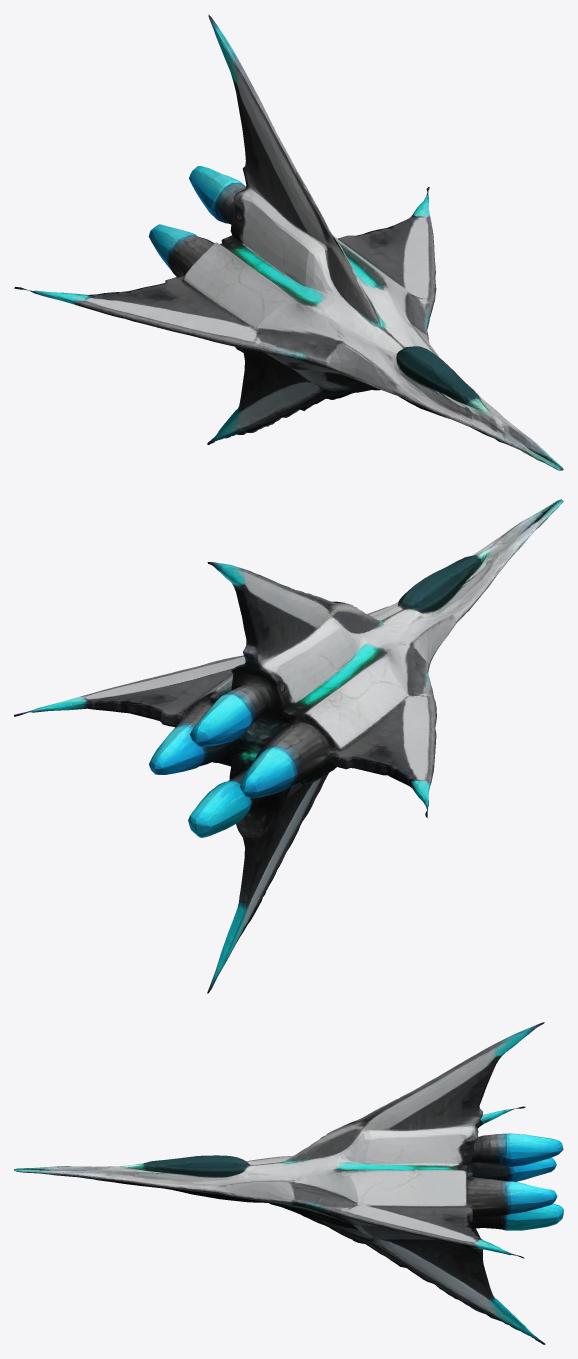
The model's file is helios-stealth.glb.
The picture shows the model from 3 angles, top to bottom: view 1: azimuth 30°, elevation 25°; view 2: azimuth 150°, elevation 25°; view 3: azimuth 270°, elevation 25°; orthographic projection. The views are drawn at different scales.
Parts seen in each view (by area): view 1: world; view 2: world; view 3: world.
Part boxes in pixels (left/top/right/bottom): world: left=14, top=14, right=563, bottom=470; world: left=14, top=499, right=563, bottom=993; world: left=14, top=1022, right=563, bottom=1344.
Bounding box in the file's own units: 0.6524 × 0.6473 × 0.9992.
1 material, 1 textured.
